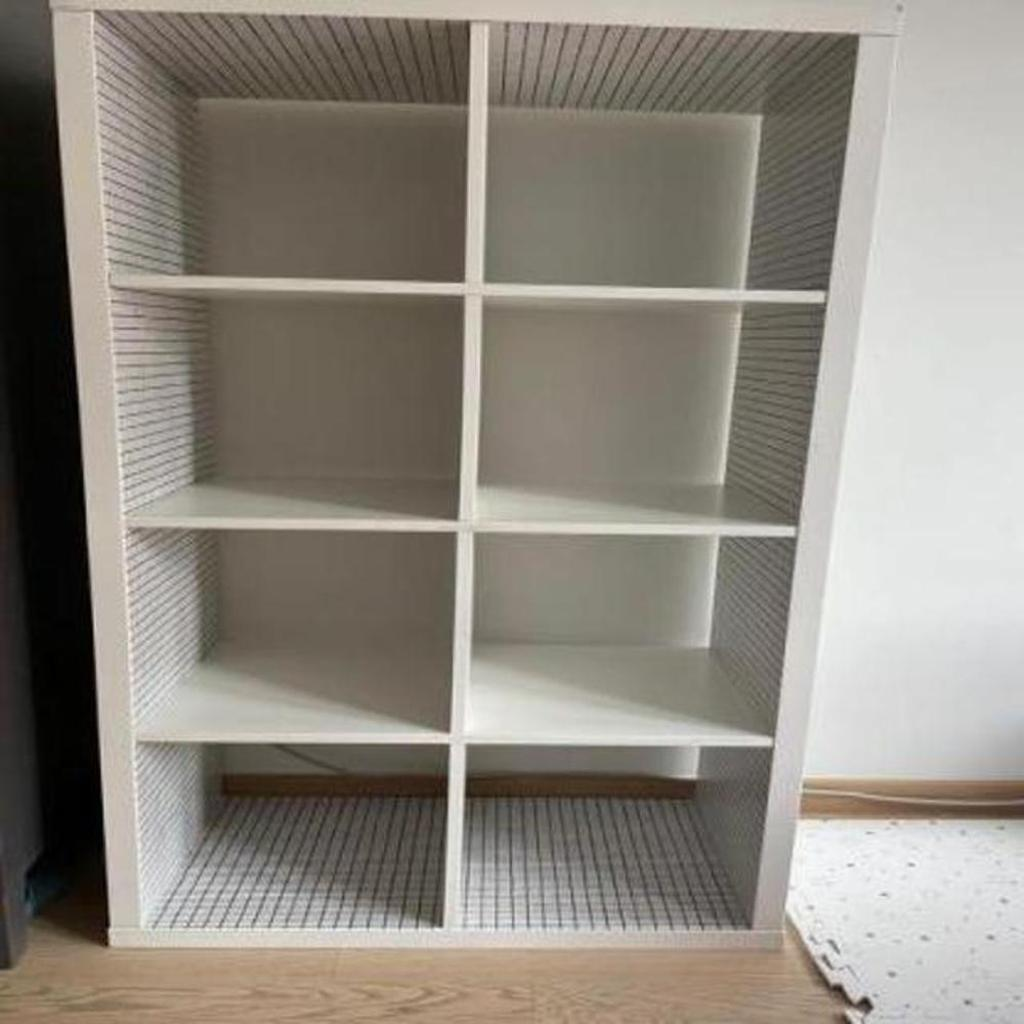lamp: (47, 0, 918, 955)
